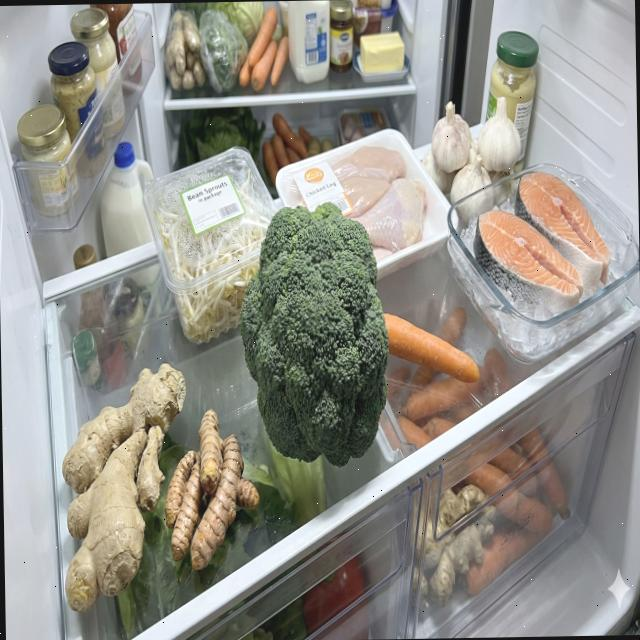bean_sprouts: (152, 166, 274, 346)
brocolli: (238, 200, 391, 470)
cabbage: (207, 1, 264, 49)
carrot: (383, 303, 572, 598), (237, 7, 290, 92)
chicken: (300, 144, 428, 264)
fish: (471, 168, 611, 316)
garlic: (420, 95, 522, 228)
ginger: (60, 362, 192, 616), (406, 488, 498, 614)
turmeric: (163, 408, 262, 574)
